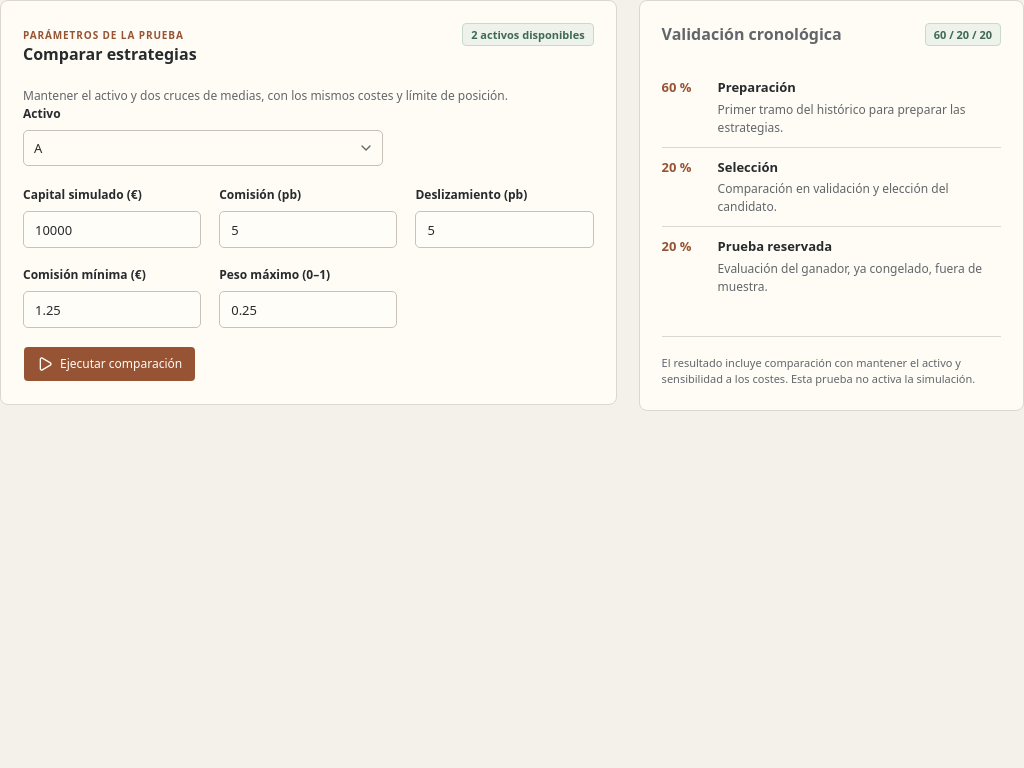
Identidad de una comparación del Laboratorio › conserva y etiqueta el resultado al cambiar symbol
Click the button "Ejecutar comparación": (110, 364) [23,346,196,382]
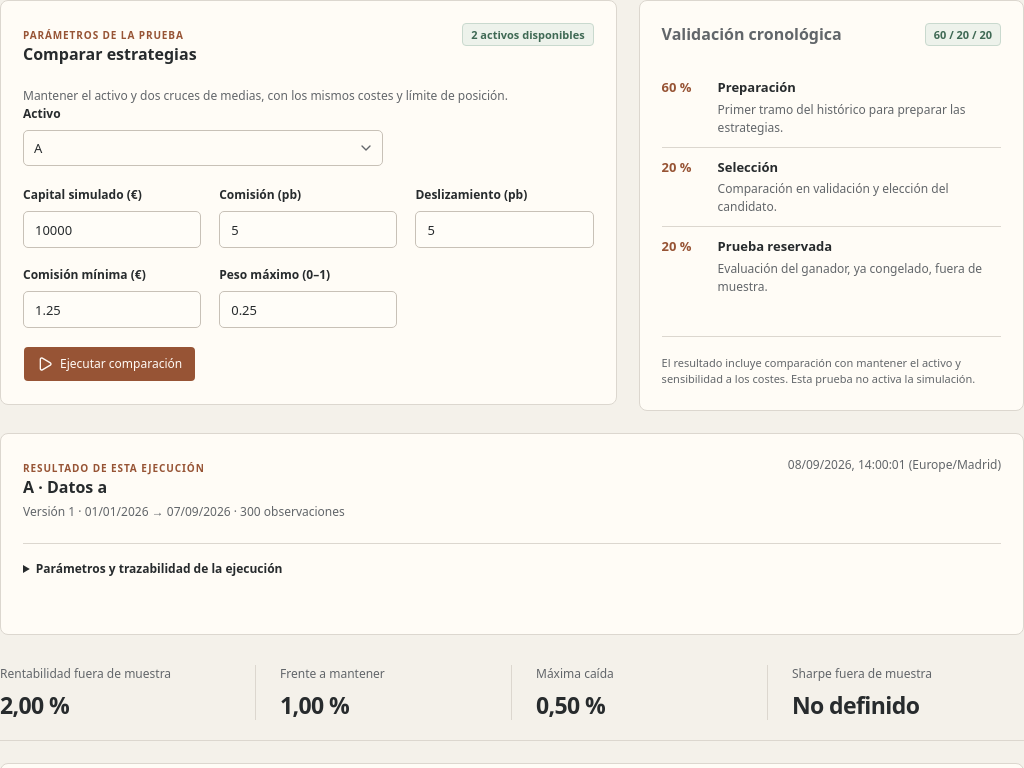
expect the element named "Contexto de la ejecución" is shown: met, box [0,433,1023,635]
Click the dropdown named "Activo": (38, 148) [23,130,383,166]
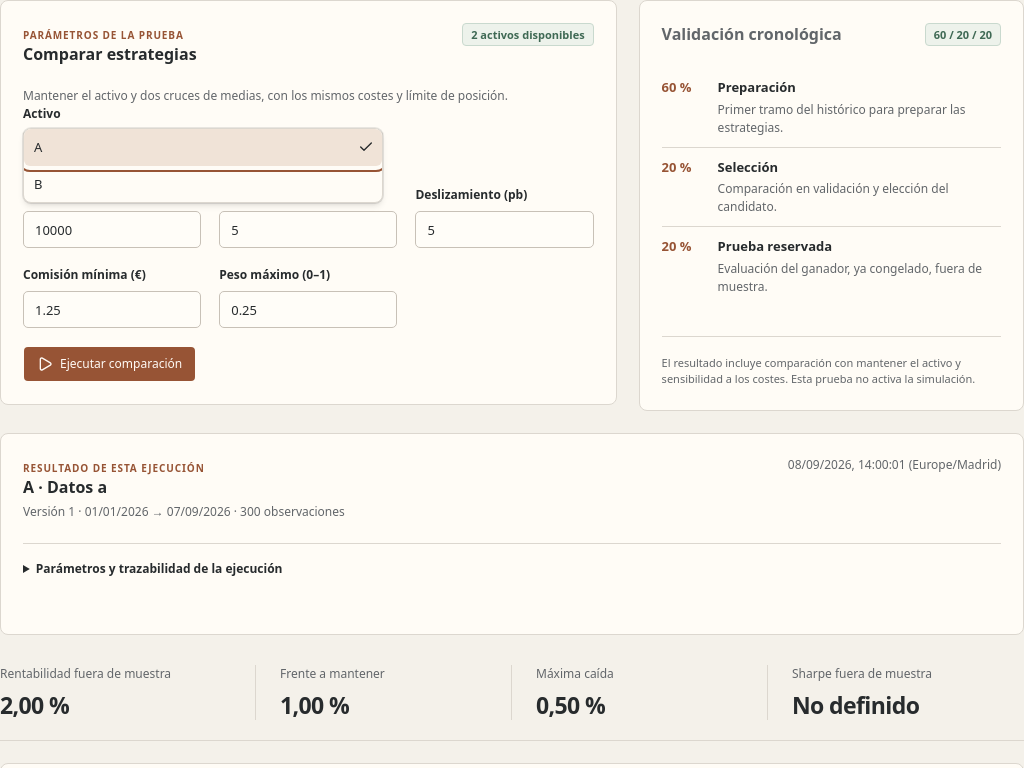
Click the option "B": (38, 184) [34,175,42,193]
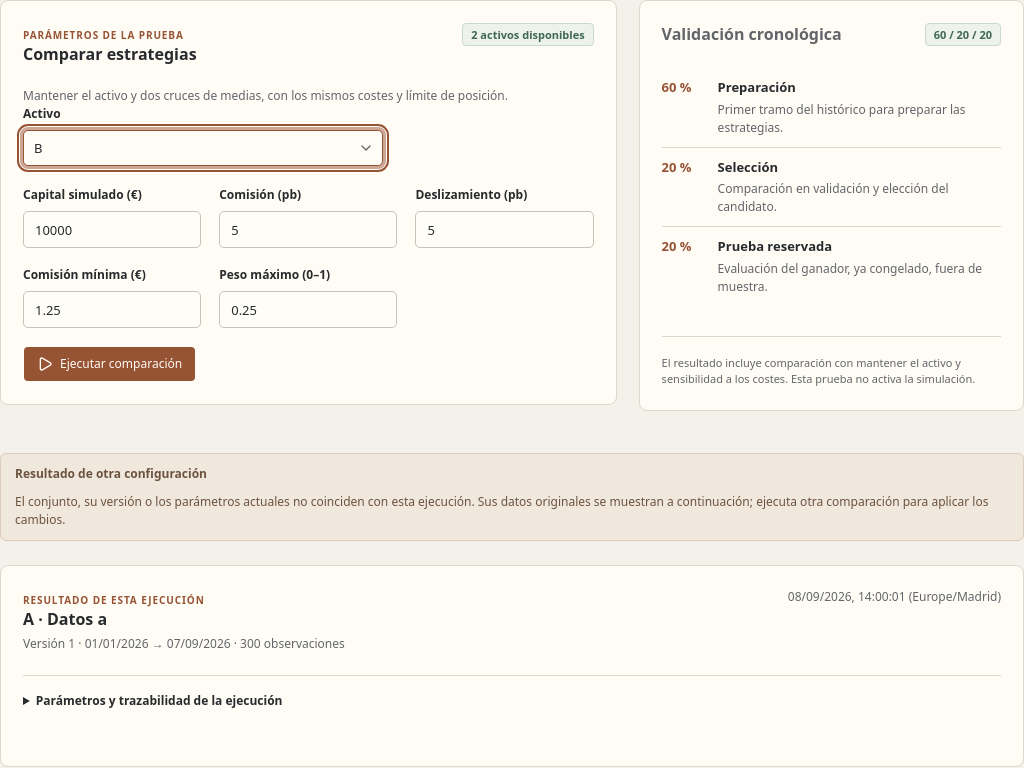
expect the heading "A · Datos a" is shown: met, box [23,608,107,630]
expect the element named "Contexto de la ejecución" shows "Versión 1": met, box [0,565,1023,767]
expect the text "Resultado de otra configuración" is shown: met, box [15,465,207,483]
